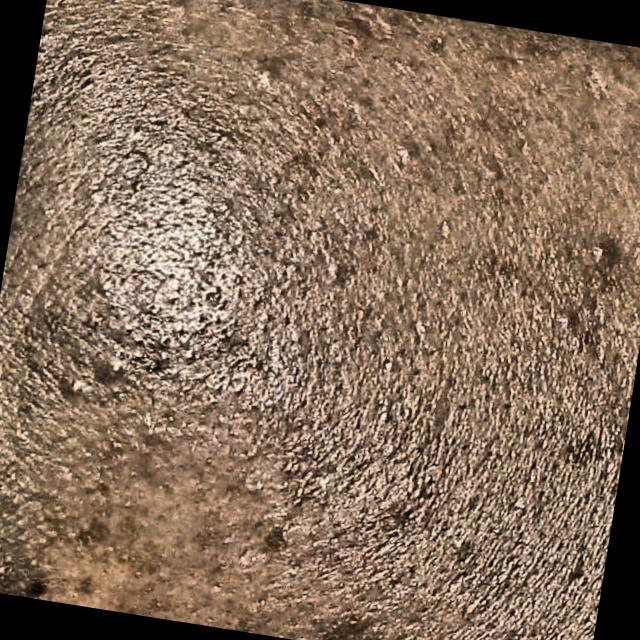whiteheads: (67, 370, 96, 400), (255, 62, 278, 87), (393, 142, 414, 164), (590, 242, 613, 262), (107, 355, 127, 375), (180, 346, 197, 362), (557, 312, 573, 329), (382, 357, 398, 372), (378, 407, 393, 423), (158, 346, 172, 362), (218, 200, 232, 214), (260, 310, 274, 322), (260, 319, 272, 331)
